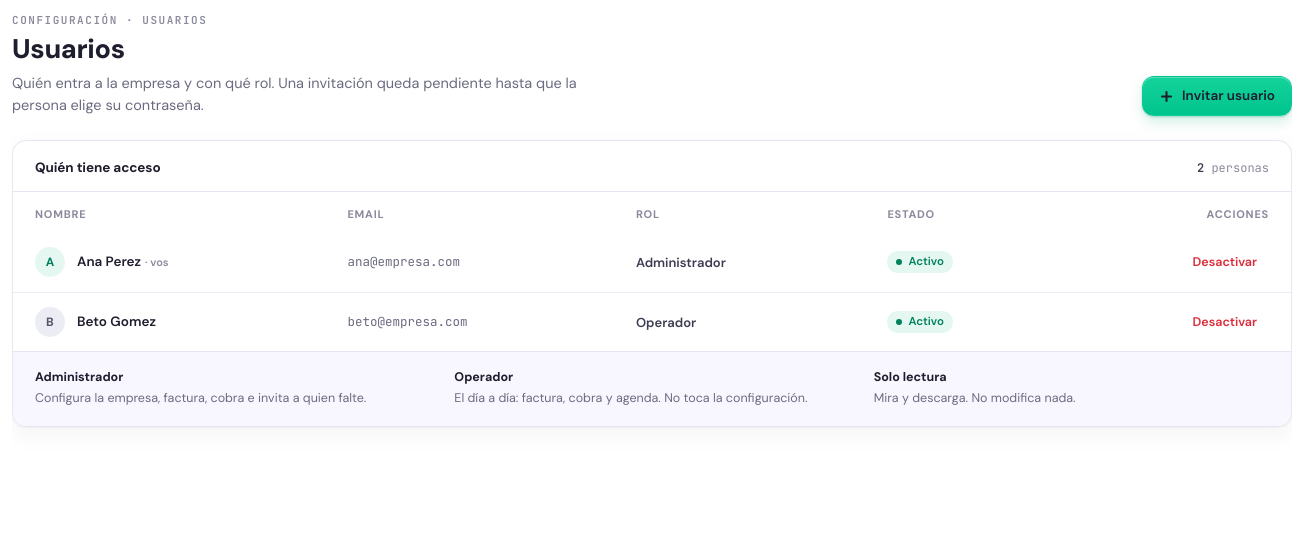
las respuestas del backend llegan al usuario › el último administrador no se puede degradar, y se explica por qué
This screenshot has width=1304, height=533.
Select "Operador" in the dropdown named "Rol de Ana Perez" in the row of "Ana Perez". click: (681, 262)
box: [627,245,735,279]
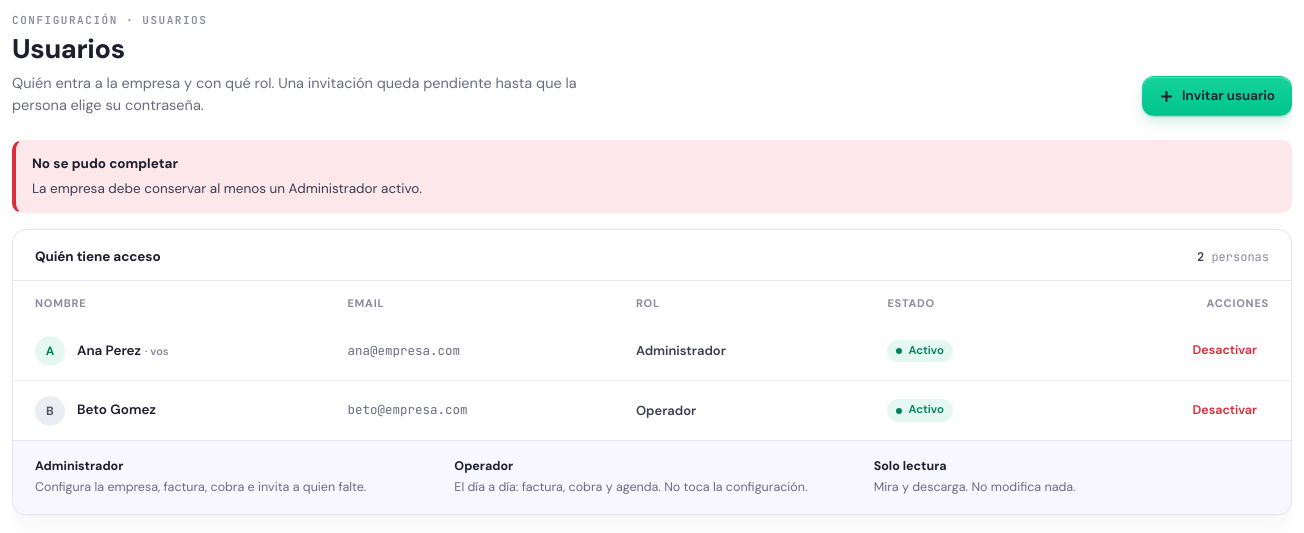
expect the text "La empresa debe conservar al menos un Administrador activo." is shown: met, box [32,180,422,197]
